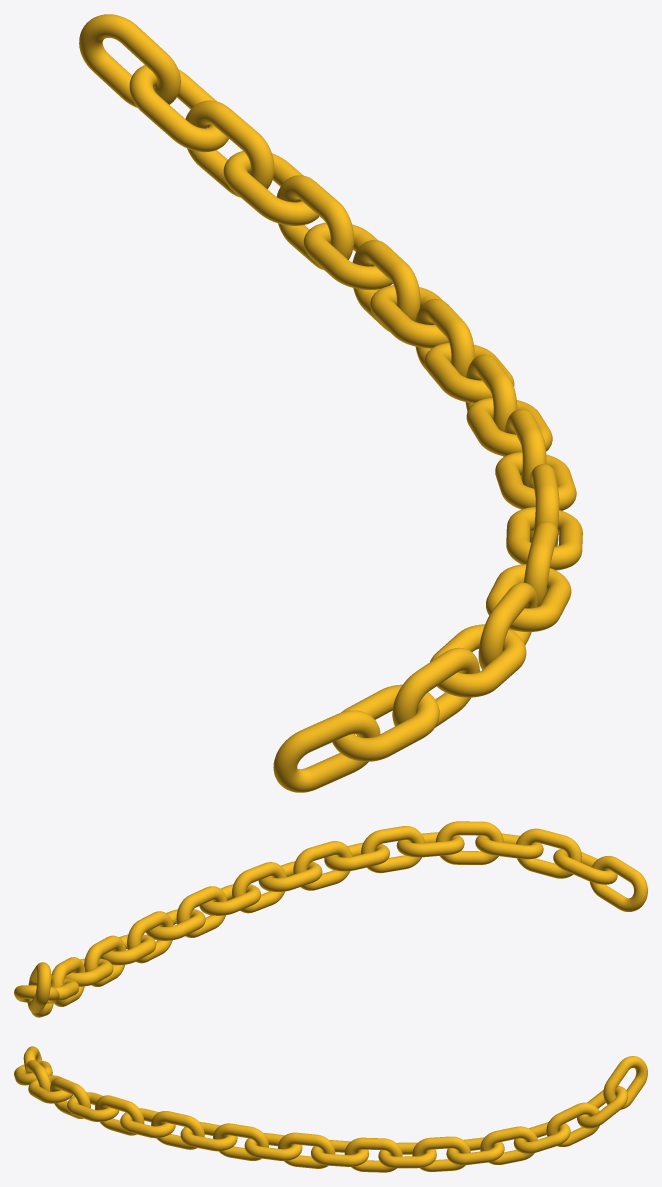
File: gold_chain.glb
3 views of the same model, one above another, from view 1: azimuth 30°, elevation 25°; view 2: azimuth 150°, elevation 25°; view 3: azimuth 270°, elevation 25° (orthographic). The views are drawn at different scales.
Visible parts, largest first — view 1: Chain_0; view 2: Chain_0; view 3: Chain_0.
Part boxes in pixels (bbox=[...]): Chain_0: bbox=[79, 14, 582, 792]; Chain_0: bbox=[14, 821, 647, 1017]; Chain_0: bbox=[14, 1046, 647, 1172].
Bounding box in the file's own units: 12.04 × 5.13 × 24.05.
